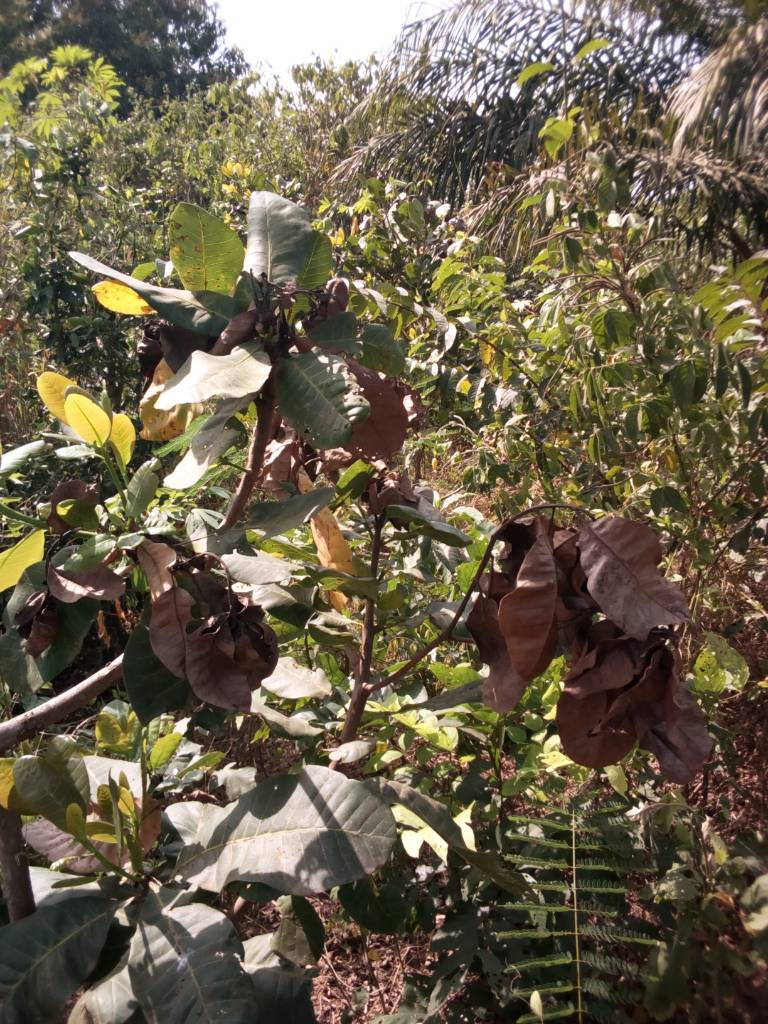Dessèchement des bourgeons: (179, 547, 275, 705), (218, 277, 333, 342)
